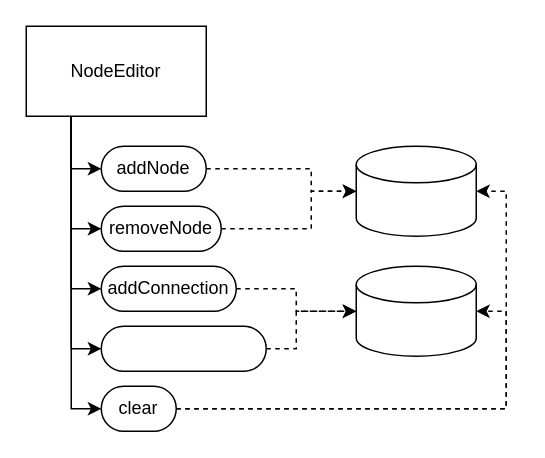
Image size: 545x458. Some labels were removed from this diagram. The shapes that lost their labels are listed below. From the top down, each one's centre as x and y in pixels, then its label:
At point 415,190: "nodes".
At point 415,310: "connections".
At point 183,348: "removeConnection".
